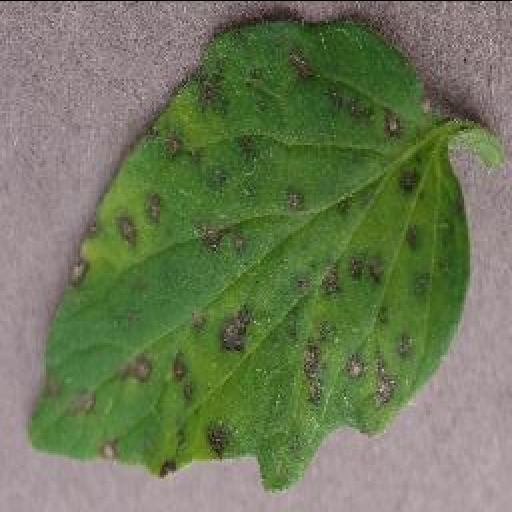disease_tomato: (29, 14, 471, 484)
